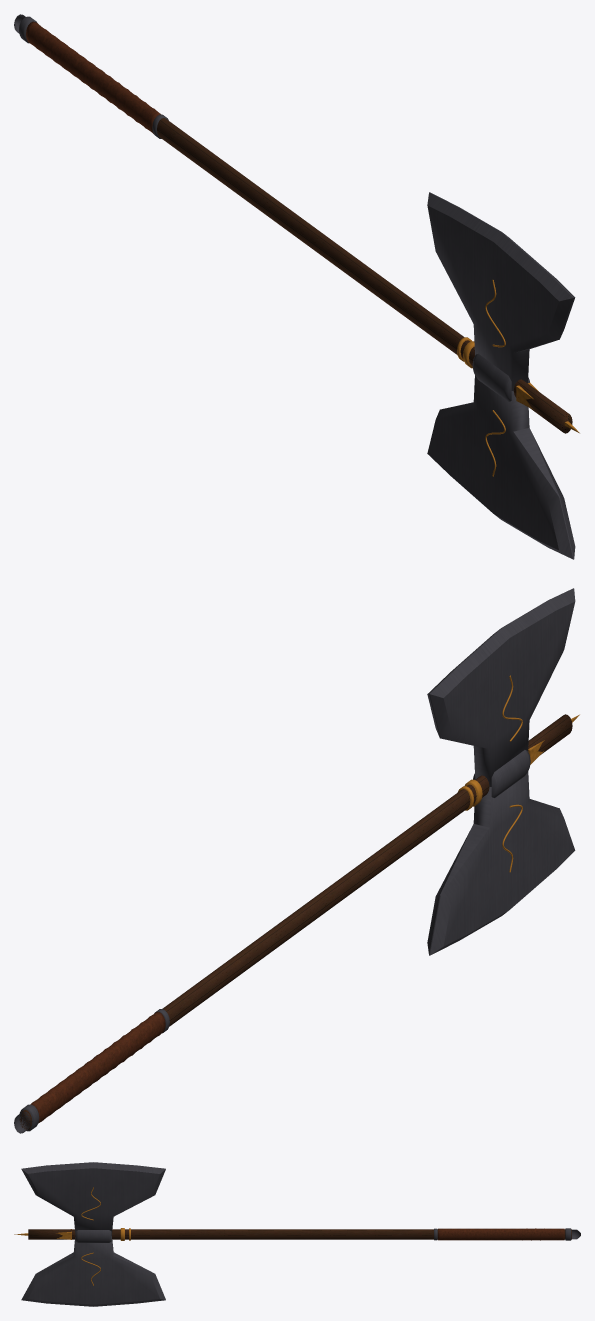
Rendered from weapon_kingrender.glb.
3 views of the same model, one above another, from view 1: azimuth 30°, elevation 25°; view 2: azimuth 150°, elevation 25°; view 3: azimuth 270°, elevation 25° (orthographic). The views are drawn at different scales.
Parts seen in each view (by area): view 1: kingrender; view 2: kingrender; view 3: kingrender.
Part boxes in pixels (x1,y1,x2,y2): kingrender: (14,14,579,559); kingrender: (14,588,579,1133); kingrender: (14,1162,580,1306).
Size of the model in its own units: 0.0408 by 0.44 by 1.57.
4 materials, 4 textured.
